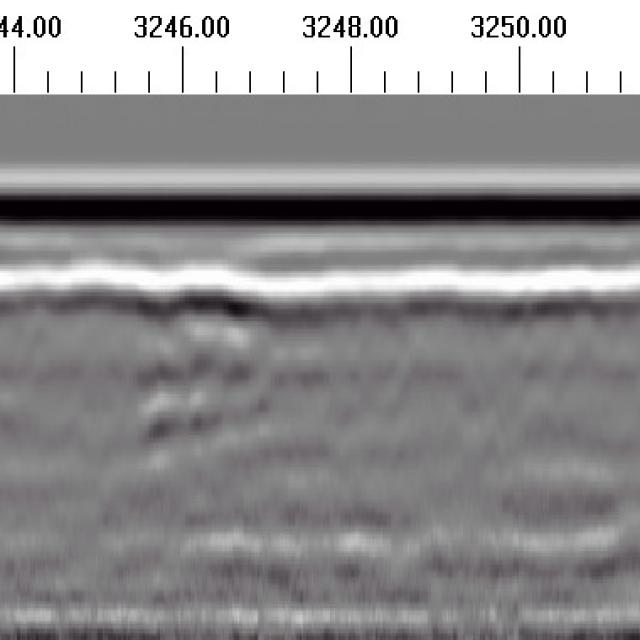loose: (126, 275, 279, 445)
